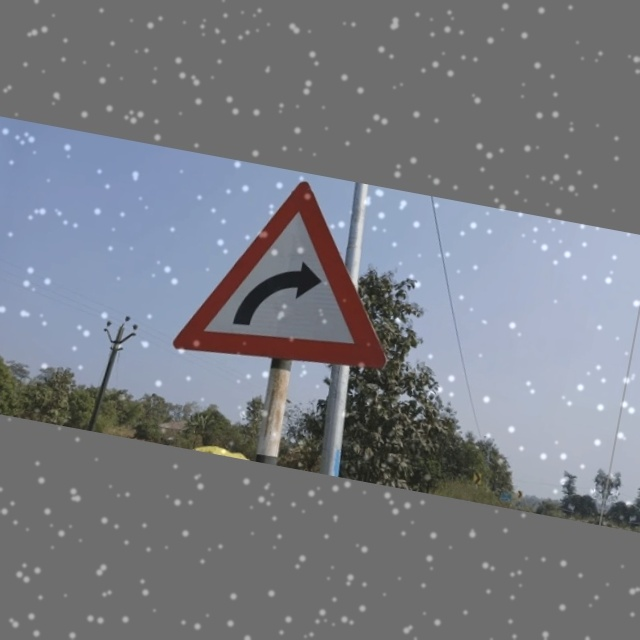Right_Hand_Curve: (180, 163, 411, 388)
